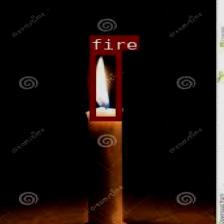fire: (88, 50, 120, 120)
